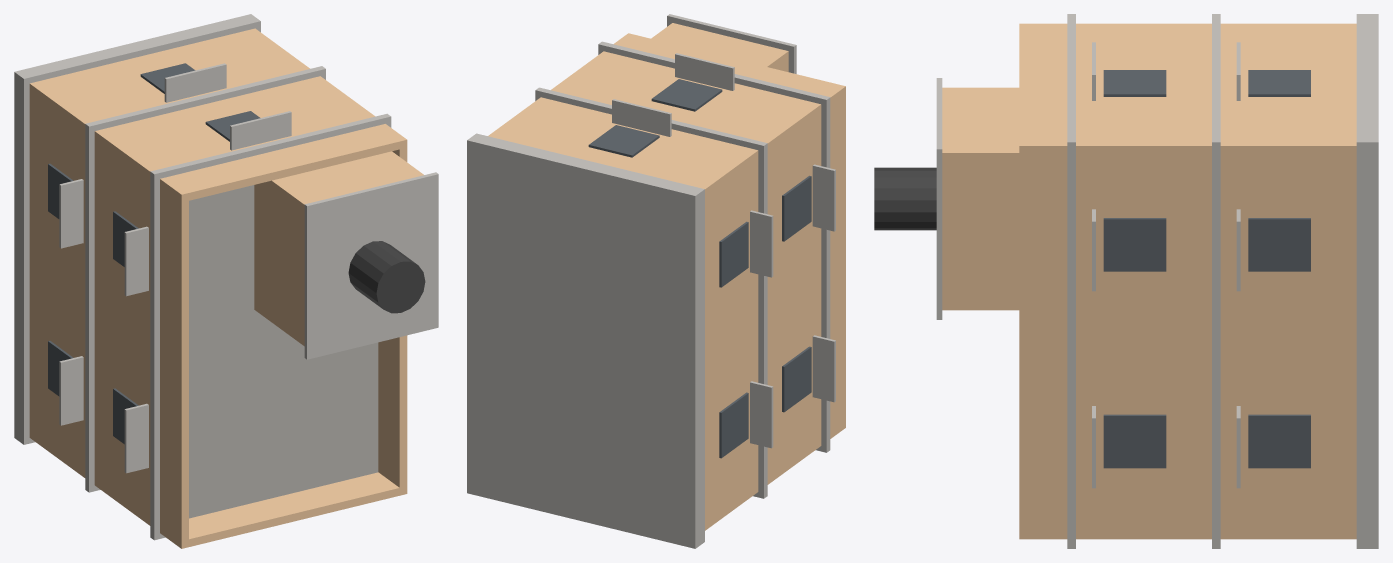
The model's file is rowhouse_2f_orange_shop.glb.
3 renders of one model, left to right at view 1: azimuth 30°, elevation 25°; view 2: azimuth 150°, elevation 25°; view 3: azimuth 270°, elevation 25°, orthographic. The views are drawn at different scales.
Visible parts, largest first — view 1: orange, concrete, roof, glass, tank; view 2: concrete, orange, glass; view 3: orange, concrete, glass, tank.
Boxes of the visible parts, x1=… form: orange: x1=29, y1=28, x2=423, y2=548; concrete: x1=14, y1=14, x2=438, y2=540; roof: x1=189, y1=185, x2=378, y2=518; glass: x1=48, y1=63, x2=260, y2=444; tank: x1=348, y1=241, x2=425, y2=313; concrete: x1=467, y1=14, x2=835, y2=548; orange: x1=488, y1=23, x2=845, y2=530; glass: x1=588, y1=79, x2=811, y2=458; orange: x1=942, y1=23, x2=1356, y2=539; concrete: x1=936, y1=14, x2=1378, y2=548; glass: x1=1103, y1=70, x2=1310, y2=468; tank: x1=874, y1=167, x2=936, y2=230.
Bounding box in the file's own units: 7.2 × 10.2 × 10.45.
